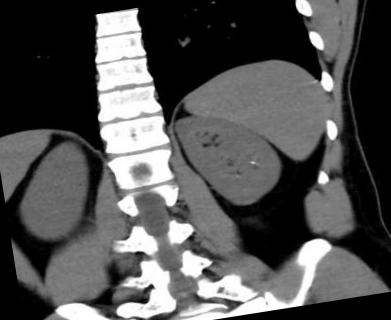Tas_Var: (248, 159, 256, 165)
